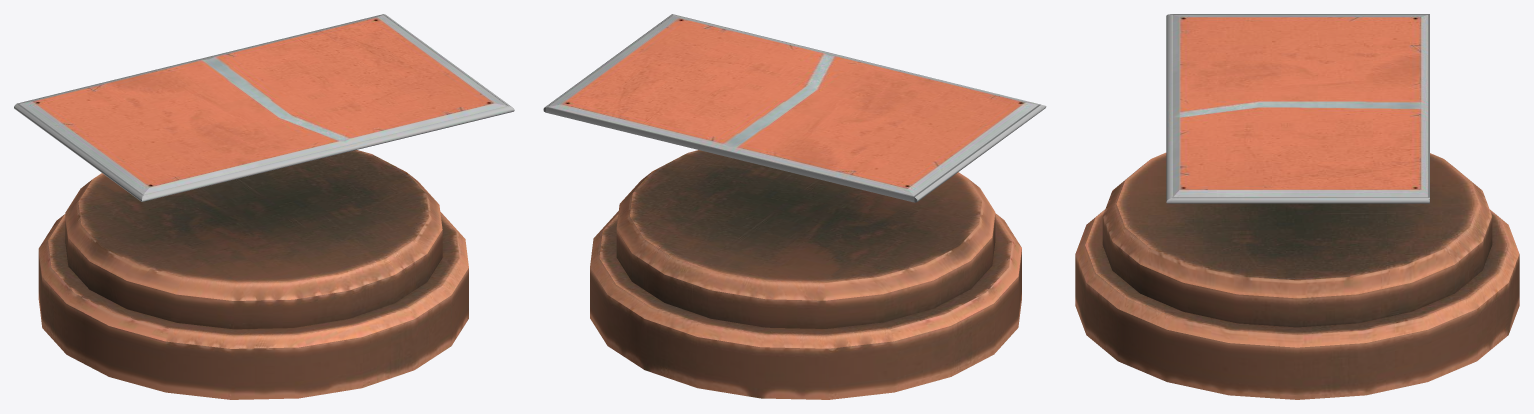
File: PLATBRONZE.fbx
The picture shows the model from 3 angles, left to right: view 1: azimuth 30°, elevation 25°; view 2: azimuth 150°, elevation 25°; view 3: azimuth 270°, elevation 25°; orthographic projection. The views are drawn at different scales.
Parts seen in each view (by area): view 1: polySurface53, polySurface48; view 2: polySurface53, polySurface48; view 3: polySurface53, polySurface48.
Boxes of the visible parts, x1,y1,x2,y2 form: polySurface53: (38,150,468,399); polySurface48: (14,14,514,201); polySurface53: (590,150,1021,399); polySurface48: (543,14,1046,202); polySurface53: (1075,152,1519,399); polySurface48: (1166,14,1429,203).
Bounding box in the file's own units: 0.4897 × 0.2469 × 0.4773.
1 material, 1 textured.
